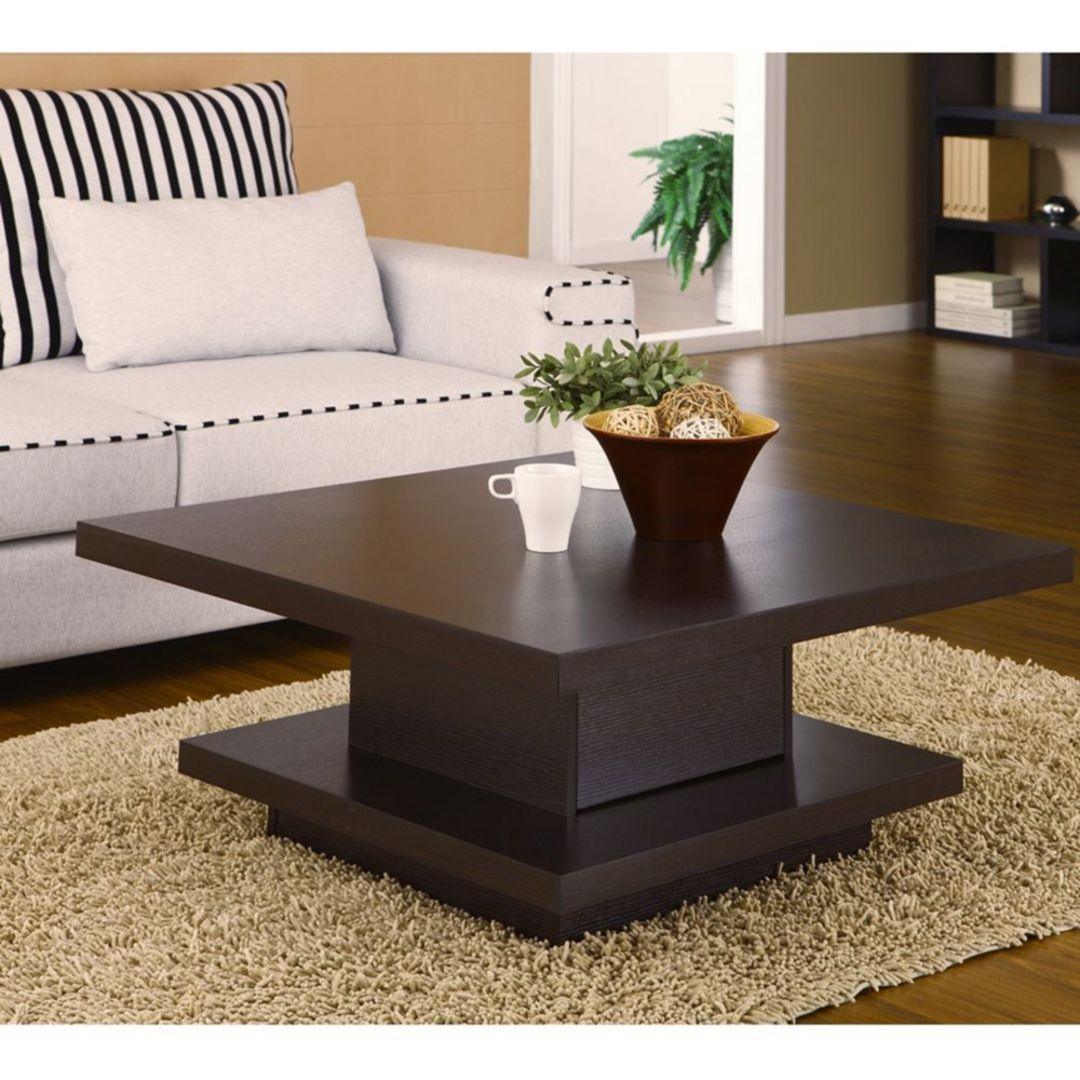bantal: (71, 194, 384, 355)
buku: (943, 134, 1031, 222), (935, 269, 1036, 340)
gelas: (487, 463, 581, 560)
meja: (41, 440, 1076, 949)
sova: (2, 87, 521, 465)
tanaman: (645, 125, 735, 321), (528, 348, 676, 407)
